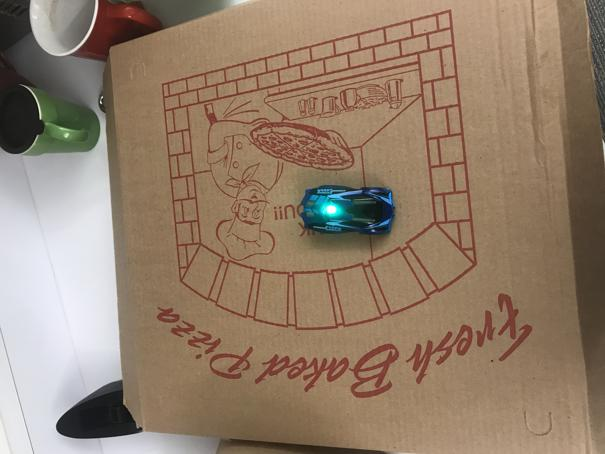Shock: (300, 185, 396, 236)
